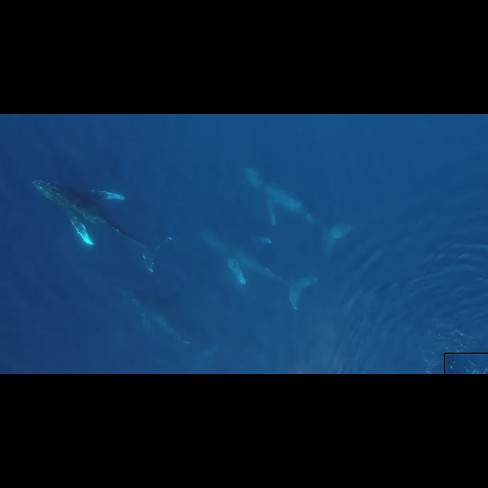hump: (30, 175, 177, 274), (191, 216, 322, 316), (241, 160, 355, 265), (109, 280, 222, 372)
